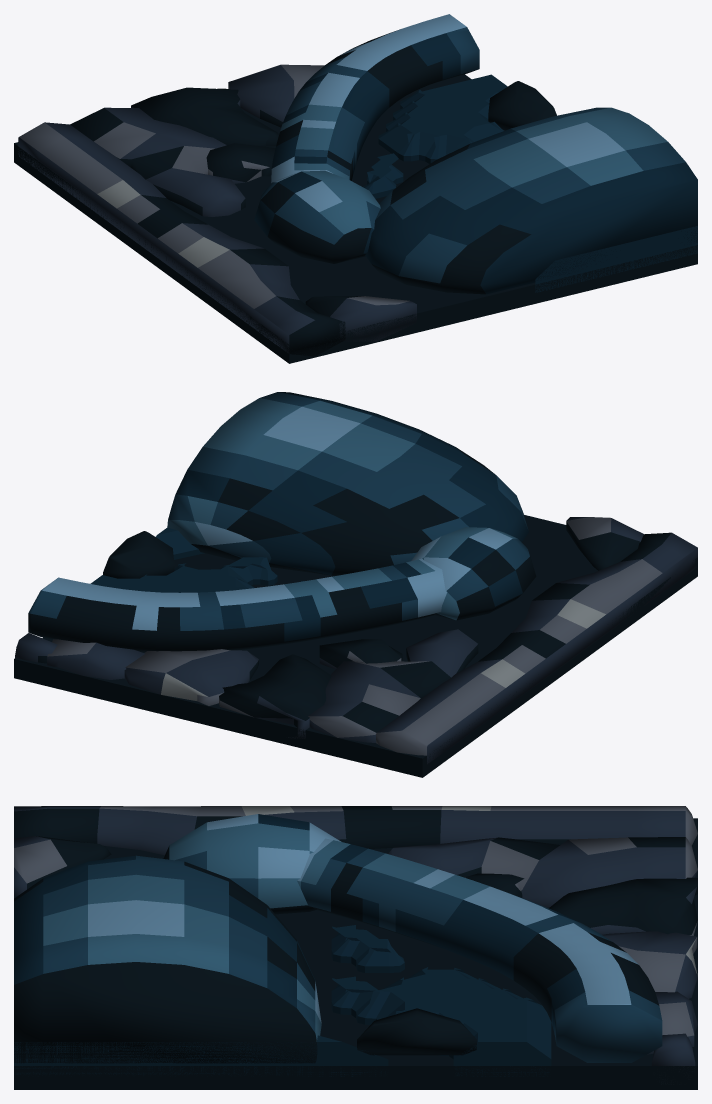
Rendered from newshh-81.glb.
3 views of the same model, one above another, from view 1: azimuth 30°, elevation 25°; view 2: azimuth 150°, elevation 25°; view 3: azimuth 270°, elevation 25° (orthographic). The views are drawn at different scales.
Visible parts, largest first — view 1: newshh-81; view 2: newshh-81; view 3: newshh-81.
Part boxes in pixels (x1,y1,x2,y2): newshh-81: (14,14,697,363); newshh-81: (14,392,697,777); newshh-81: (14,806,697,1089).
Bounding box in the file's own units: 2 × 0.49 × 2.33.
